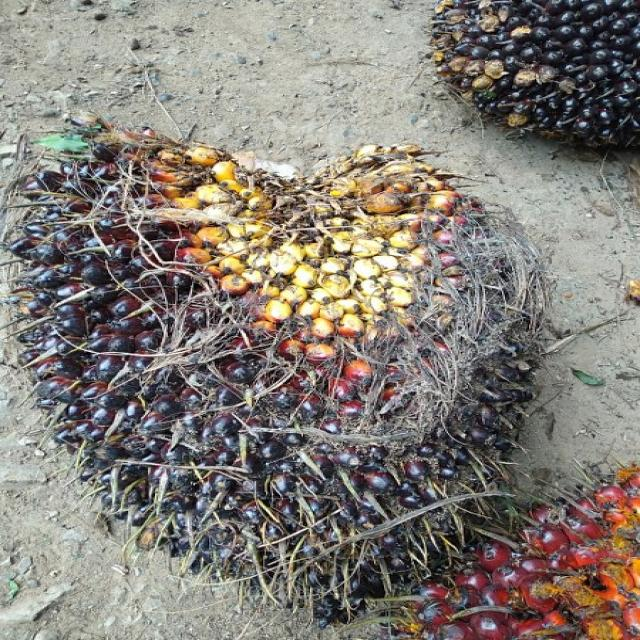fraksi 00: (16, 140, 542, 613), (441, 2, 640, 162)
